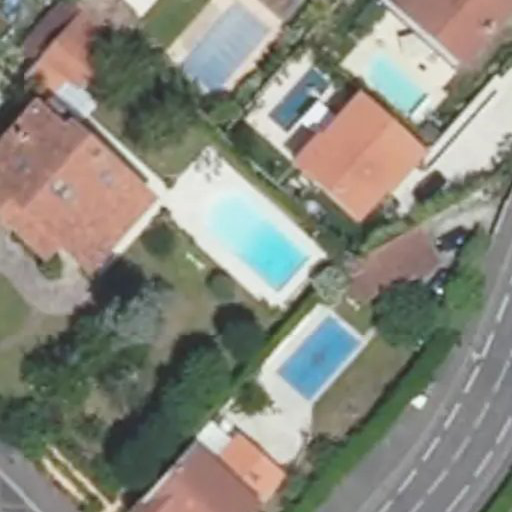pool: (190, 217, 311, 257)
